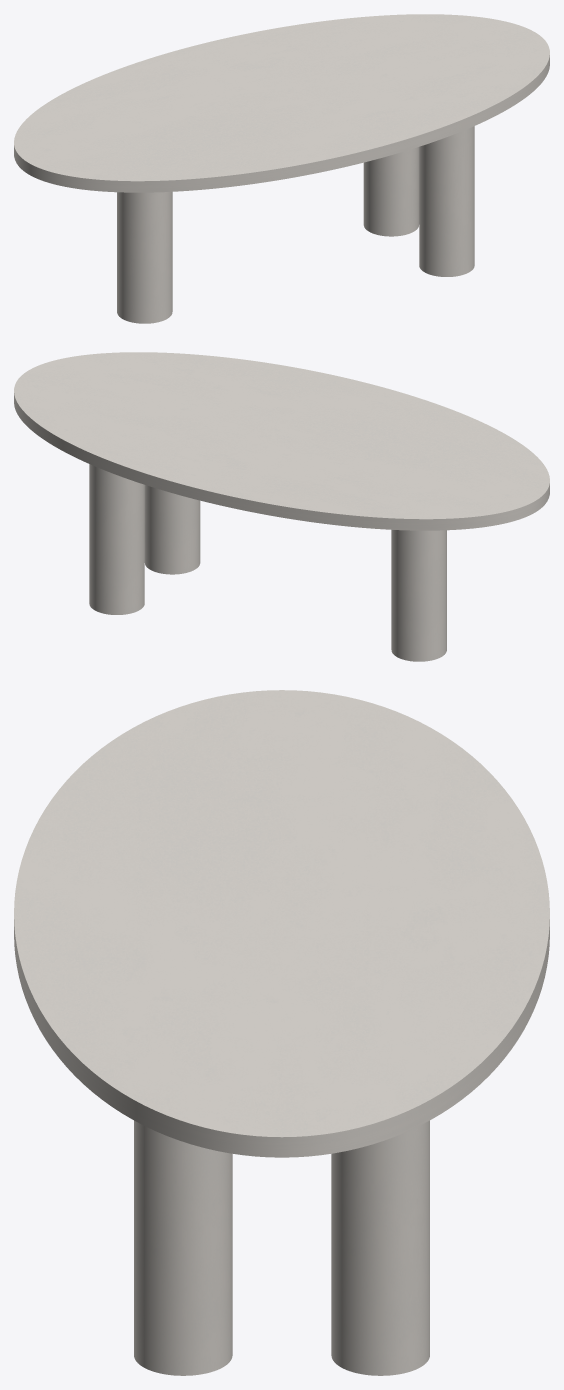
Rendered from pearlwhite_ellips_standard_cylinder.glb.
The picture shows the model from 3 angles, top to bottom: view 1: azimuth 30°, elevation 25°; view 2: azimuth 150°, elevation 25°; view 3: azimuth 270°, elevation 25°; orthographic projection. The views are drawn at different scales.
Visible parts, largest first — view 1: standard_ellips, cylinder; view 2: standard_ellips, cylinder; view 3: standard_ellips, cylinder.
Boxes of the visible parts, bbox=[...] form: standard_ellips: bbox=[14, 14, 549, 192]; cylinder: bbox=[117, 126, 474, 323]; standard_ellips: bbox=[14, 352, 549, 530]; cylinder: bbox=[89, 464, 446, 661]; standard_ellips: bbox=[14, 690, 549, 1157]; cylinder: bbox=[134, 1120, 429, 1375].
Size of the model in its own units: 7.5 by 2.52 by 3.8.
1 material, 1 textured.
